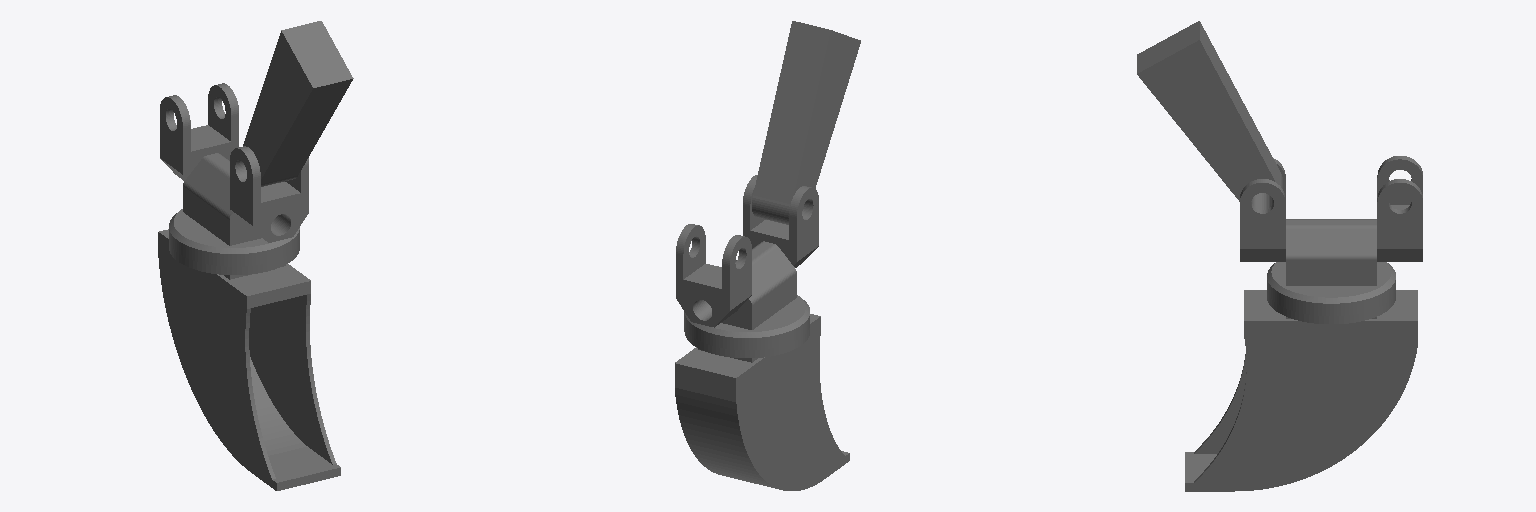
The robot description file, URDF, robot "rototilt":
<?xml version="1.0" ?>
<robot name="rototilt">
  
  <mujoco>
    <compiler meshdir="meshes/" balanceinertia="true" discardvisual="false"/>
  </mujoco>

  <!-- Base link (Sticka - the arm stick) -->
  <link name="base_link">
  <inertial>
    <origin xyz="0 0 0" rpy="0 0 0"/>
    <mass value="1"/>
    <inertia ixx="1" iyy="1" izz="1" ixy="0.0" iyz="0.0" ixz="0.0"/>
  </inertial>
    <visual>
      <origin xyz="0 0 0" rpy="1.5708 0 -1.5708"/>
      <geometry>
        <mesh filename="Sticka.stl" scale="0.001 0.001 0.001"/>
      </geometry>
      <material name="gray">
        <color rgba="0.5 0.5 0.5 1.0"/>
      </material>
    </visual>
  </link>

  <link name="pitch_link">
    <inertial>
    <origin xyz="0 0 0" rpy="0 0 0"/>
    <mass value="1"/>
    <inertia ixx="1" iyy="1" izz="1" ixy="0.0" iyz="0.0" ixz="0.0"/>
  </inertial>
    <visual>
      <origin xyz="0 0 0" rpy="1.5708 0 -1.5708"/>
      <geometry>
        <mesh filename="Base.stl" scale="0.001 0.001 0.001"/>
      </geometry>
      <material name="gray">
        <color rgba="0.5 0.5 0.5 1.0"/>
      </material>
    </visual>
  </link>


  <link name="tilt_link">
    <inertial>
    <origin xyz="0 0 0" rpy="0 0 0"/>
    <mass value="1"/>
    <inertia ixx="1" iyy="1" izz="1" ixy="0.0" iyz="0.0" ixz="0.0"/>
  </inertial>
    <visual>
      <origin xyz="0 0 0" rpy="1.5708 0 -1.5708"/>
      <geometry>
        <mesh filename="Tilt.stl" scale="0.001 0.001 0.001"/>
      </geometry>
      <material name="gray">
        <color rgba="0.5 0.5 0.5 1.0"/>
      </material>
    </visual>
  </link>

  <link name="rotator_link">
    <inertial>
    <origin xyz="0 0 0" rpy="0 0 0"/>
    <mass value="1"/>
    <inertia ixx="1" iyy="1" izz="1" ixy="0.0" iyz="0.0" ixz="0.0"/>
  </inertial>
    <visual>
      <origin xyz="0 0 0" rpy="1.5708 0 -1.5708"/>
      <geometry>
        <mesh filename="Rotator.stl" scale="0.001 0.001 0.001"/>
      </geometry>
      <material name="gray">
        <color rgba="0.5 0.5 0.5 1.0"/>
      </material>
    </visual>
  </link>


  <!-- Pitch joint (bucket pitch) -->
  <joint name="pitch_joint" type="revolute">
    <parent link="base_link"/>
    <child link="pitch_link"/>
    <origin xyz="0 0 0" rpy="0 0 0"/>
    <axis xyz="1 0 0"/>
  </joint>

  <joint name="tilt_joint" type="revolute">
    <parent link="pitch_link"/>
    <child link="tilt_link"/>
    <origin xyz="-0.025 0.025 -0.062" rpy="0 0 0"/>
    <axis xyz="0 1 0"/>
  </joint>

  <joint name="rotate_joint" type="revolute">
    <parent link="tilt_link"/>
    <child link="rotator_link"/>
    <origin xyz="0 0.05 -0.057" rpy="0 0 0"/>
    <axis xyz="0 0 1"/>
  </joint>

</robot>

--- What the picture shows (computed from the rendered views, not written in the file) ---
The picture shows the robot from 3 angles, left to right: view 1: azimuth 30°, elevation 25°; view 2: azimuth 150°, elevation 25°; view 3: azimuth 270°, elevation 25°; orthographic projection.
Robot: rototilt — 4 links, 3 joints (3 revolute); root link base_link; default pose: every joint at zero.
Links seen in each view (by area): view 1: rotator_link, base_link, pitch_link, tilt_link; view 2: rotator_link, base_link, pitch_link, tilt_link; view 3: rotator_link, base_link, tilt_link, pitch_link.
Boxes of the visible links, box(x1,y1,x2,y2) form: rotator_link: box(158, 229, 340, 490); base_link: box(243, 21, 353, 186); pitch_link: box(160, 83, 308, 242); tilt_link: box(169, 153, 299, 266); rotator_link: box(675, 314, 849, 490); base_link: box(752, 21, 860, 224); pitch_link: box(676, 175, 818, 327); tilt_link: box(684, 241, 809, 349); rotator_link: box(1185, 290, 1417, 491); base_link: box(1137, 21, 1282, 209); tilt_link: box(1267, 219, 1395, 315); pitch_link: box(1240, 156, 1422, 261).
Bounding box of the posed robot: 0.1409 × 0.3123 × 0.536 m (x, y, z).
4 mesh visuals loaded from 4 distinct referenced files (4 binary STL).
